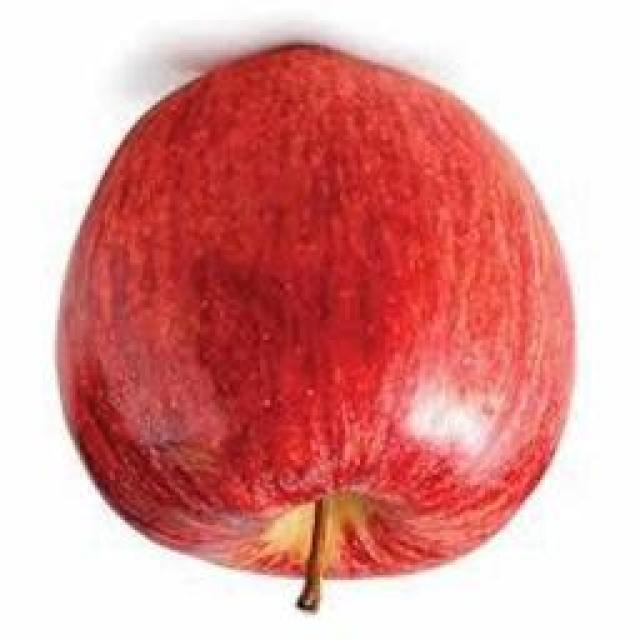Apple: (58, 45, 574, 608)
